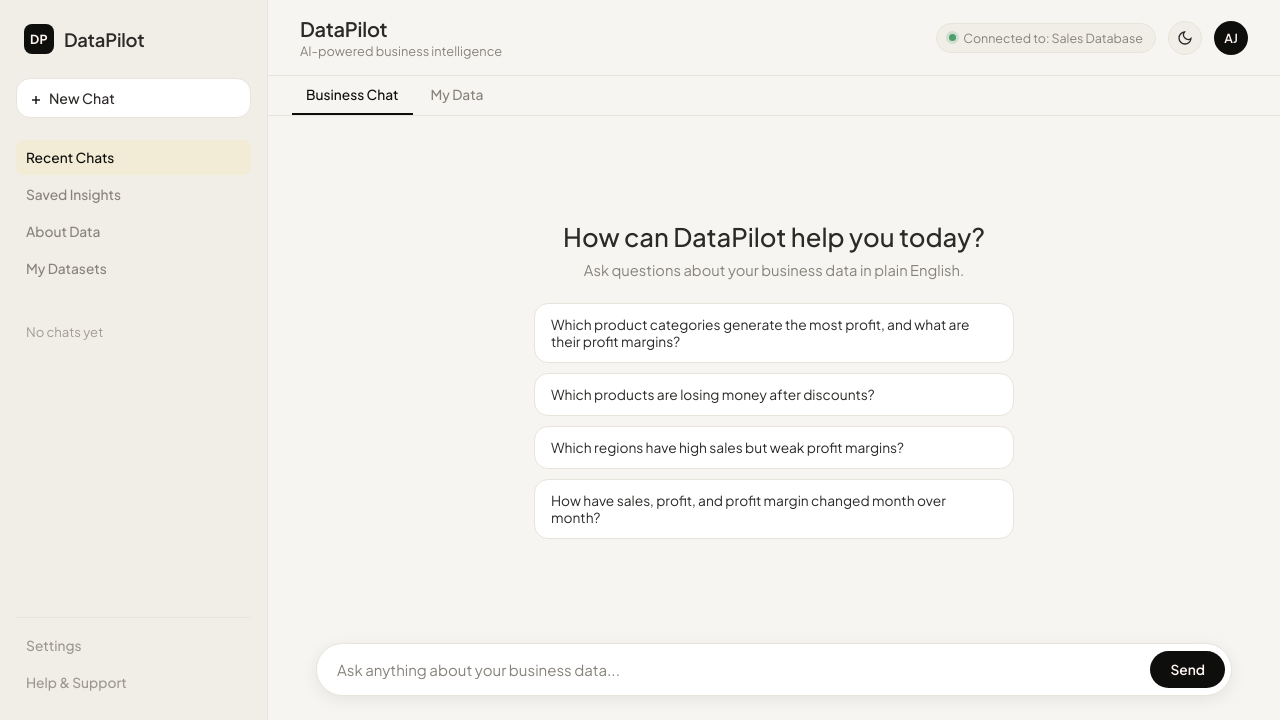
it: answer presentation › shows formatted summaries without a results table
Type "How did sales and profit change?" into the field with placeholder "Ask anything about your business data..." at (739, 670), box [337, 650, 1140, 689]
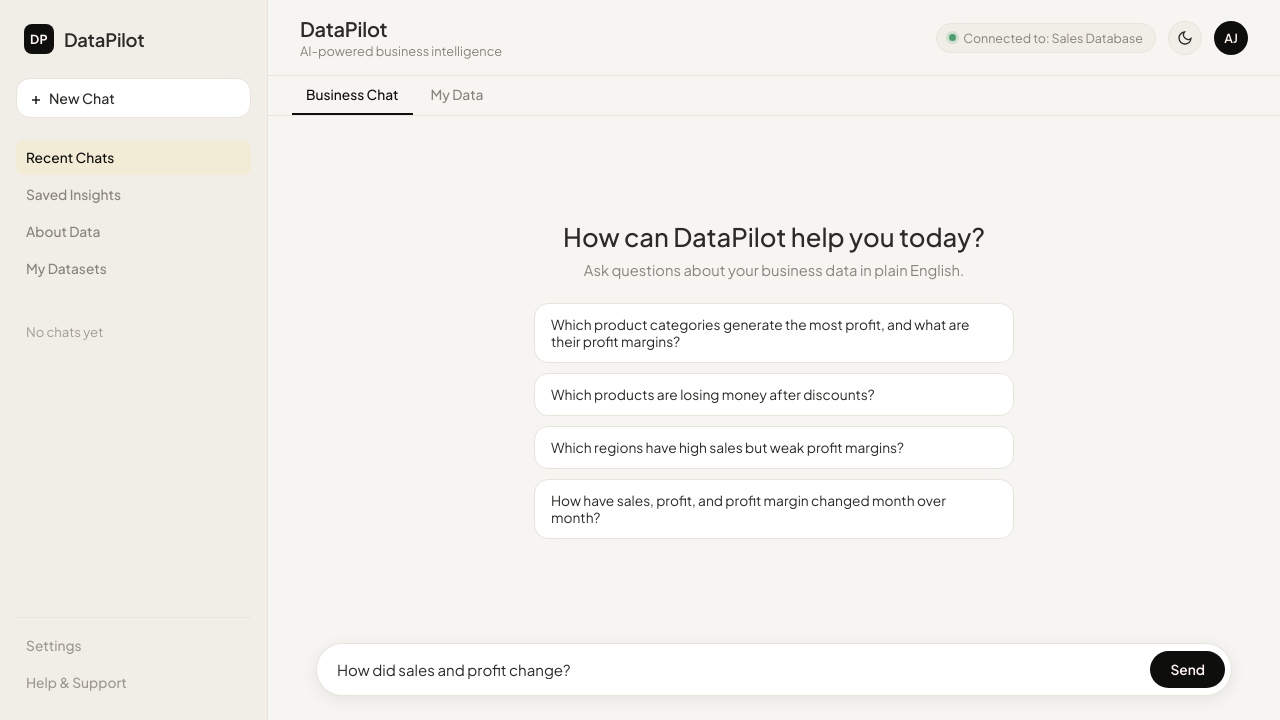
Click the button "Send" at (1188, 670), box [1150, 651, 1225, 688]
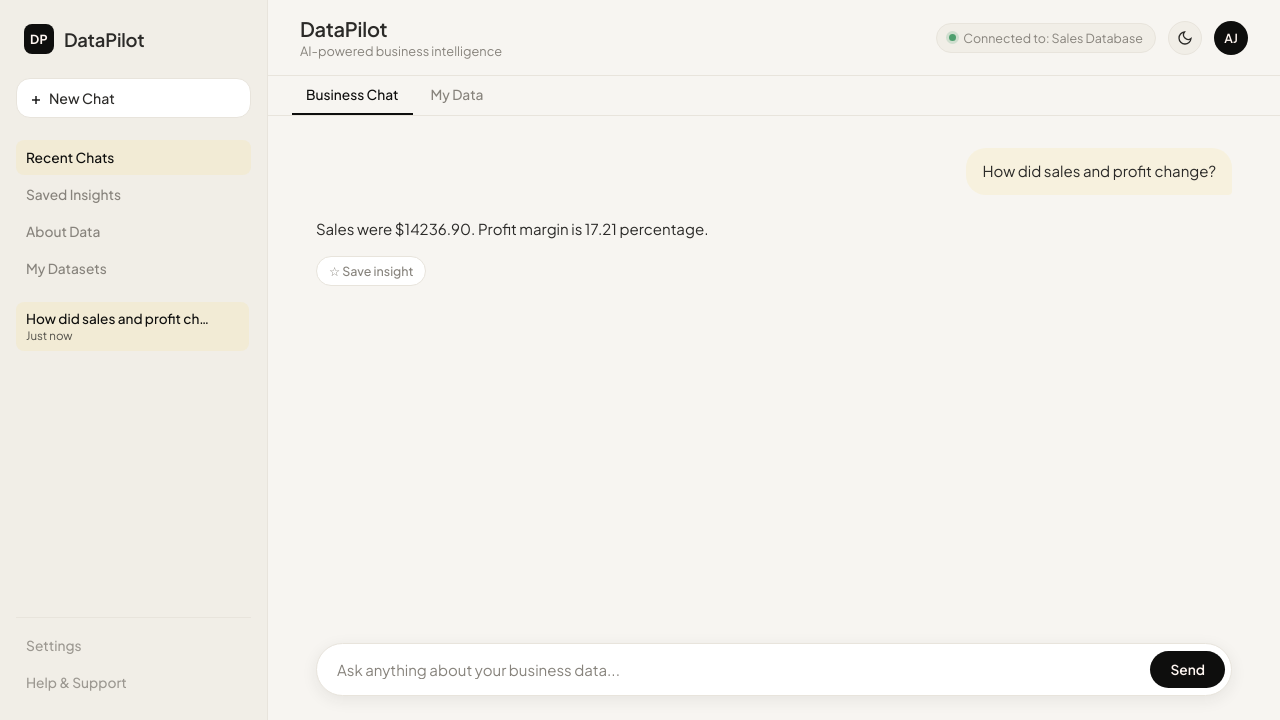
Check: the text "Sales were $14236.90. Profit margin is 17.21 percentage." is shown, box [316, 219, 708, 238]
